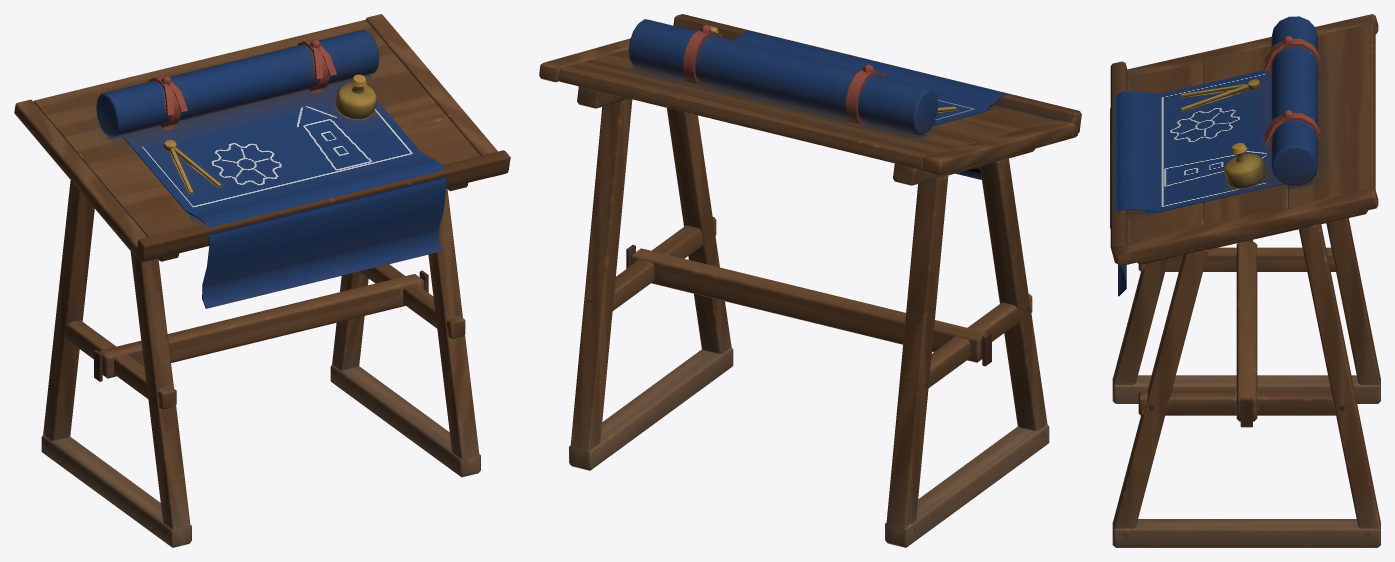
Rendered from blueprint.hq.glb.
The picture shows the model from 3 angles, left to right: view 1: azimuth 30°, elevation 25°; view 2: azimuth 150°, elevation 25°; view 3: azimuth 270°, elevation 25°; orthographic projection. The views are drawn at different scales.
Parts seen in each view (by area): view 1: blueprint; view 2: blueprint; view 3: blueprint.
Boxes of the visible parts, x1=… form: blueprint: x1=14, y1=14, x2=510, y2=547; blueprint: x1=539, y1=14, x2=1081, y2=547; blueprint: x1=1110, y1=14, x2=1380, y2=547.
Bounding box in the file's own units: 0.84 × 0.8526 × 0.5253.
Materials: 1 (1 with a texture image).
